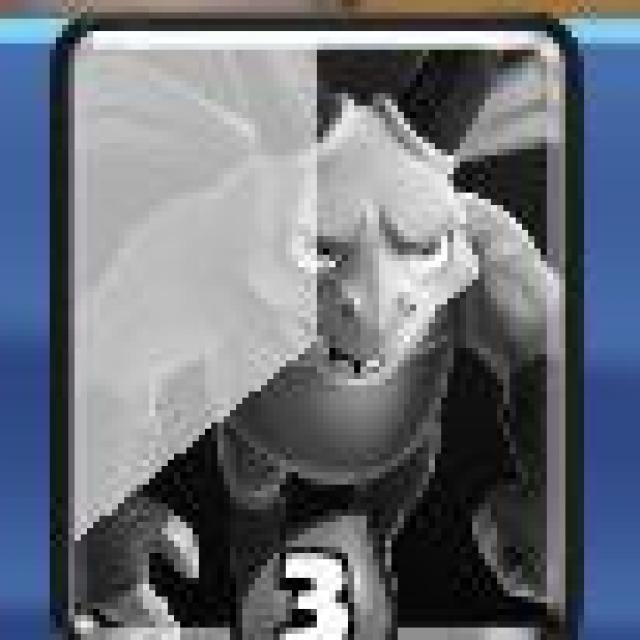Minions: (52, 18, 577, 640)
